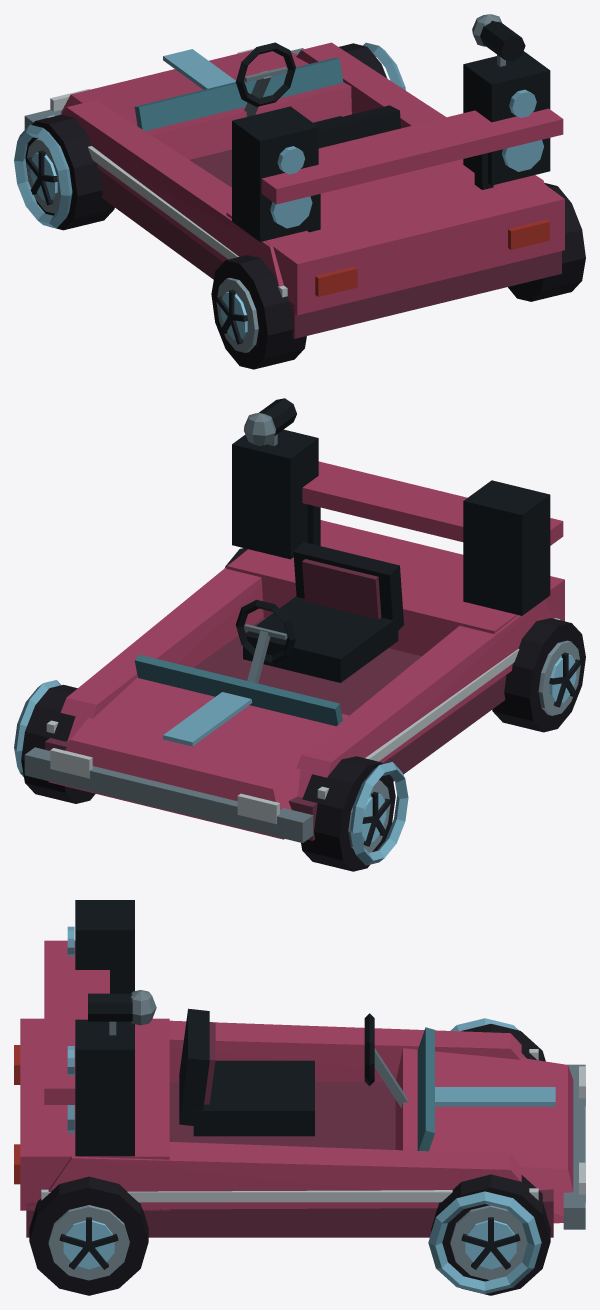
File: kart.glb
The picture shows the model from 3 angles, top to bottom: view 1: azimuth 30°, elevation 25°; view 2: azimuth 150°, elevation 25°; view 3: azimuth 270°, elevation 25°; orthographic projection. The views are drawn at different scales.
Visible parts, largest first — view 1: identity-sports-car-sports-car-road-car-body, identity-sports-car-motif-speakers, wheel-rear-left, wheel-front-left, identity-sports-car-motif-neon, identity-sports-car-driver-cockpit, wheel-rear-right, identity-sports-car-motif-microphone, wheel-front-right; view 2: identity-sports-car-sports-car-road-car-body, identity-sports-car-motif-speakers, identity-sports-car-driver-cockpit, wheel-rear-left, wheel-front-left, identity-sports-car-motif-neon, wheel-front-right, identity-sports-car-motif-microphone; view 3: identity-sports-car-sports-car-road-car-body, identity-sports-car-motif-speakers, identity-sports-car-driver-cockpit, wheel-rear-right, identity-sports-car-motif-neon, wheel-front-right, identity-sports-car-motif-microphone, wheel-front-left.
Part boxes in pixels (x1,y1,x2,y2): identity-sports-car-sports-car-road-car-body: (24, 42, 564, 338); identity-sports-car-motif-speakers: (232, 51, 550, 241); wheel-rear-left: (211, 255, 306, 369); wheel-front-left: (25, 114, 114, 230); identity-sports-car-motif-neon: (14, 42, 405, 297); identity-sports-car-driver-cockpit: (236, 42, 400, 148); wheel-rear-right: (508, 183, 585, 301); identity-sports-car-motif-microphone: (472, 14, 525, 66); wheel-front-right: (339, 43, 387, 78); identity-sports-car-sports-car-road-car-body: (24, 461, 564, 842); identity-sports-car-motif-speakers: (232, 429, 550, 615); identity-sports-car-driver-cockpit: (235, 542, 403, 683); wheel-rear-left: (492, 618, 585, 732); wheel-front-left: (301, 756, 395, 871); identity-sports-car-motif-neon: (14, 618, 560, 865); wheel-front-right: (21, 684, 95, 803); identity-sports-car-motif-microphone: (243, 398, 296, 446); identity-sports-car-sports-car-road-car-body: (14, 940, 585, 1237); identity-sports-car-motif-speakers: (67, 900, 134, 1156); identity-sports-car-driver-cockpit: (179, 1008, 407, 1136); wheel-rear-right: (29, 1176, 148, 1295); identity-sports-car-motif-neon: (41, 1018, 541, 1293); wheel-front-right: (431, 1174, 550, 1295); identity-sports-car-motif-microphone: (88, 990, 156, 1035); wheel-front-left: (461, 1024, 545, 1061).
Bounding box in the file's own units: 2.13 × 1.57 × 2.88.
